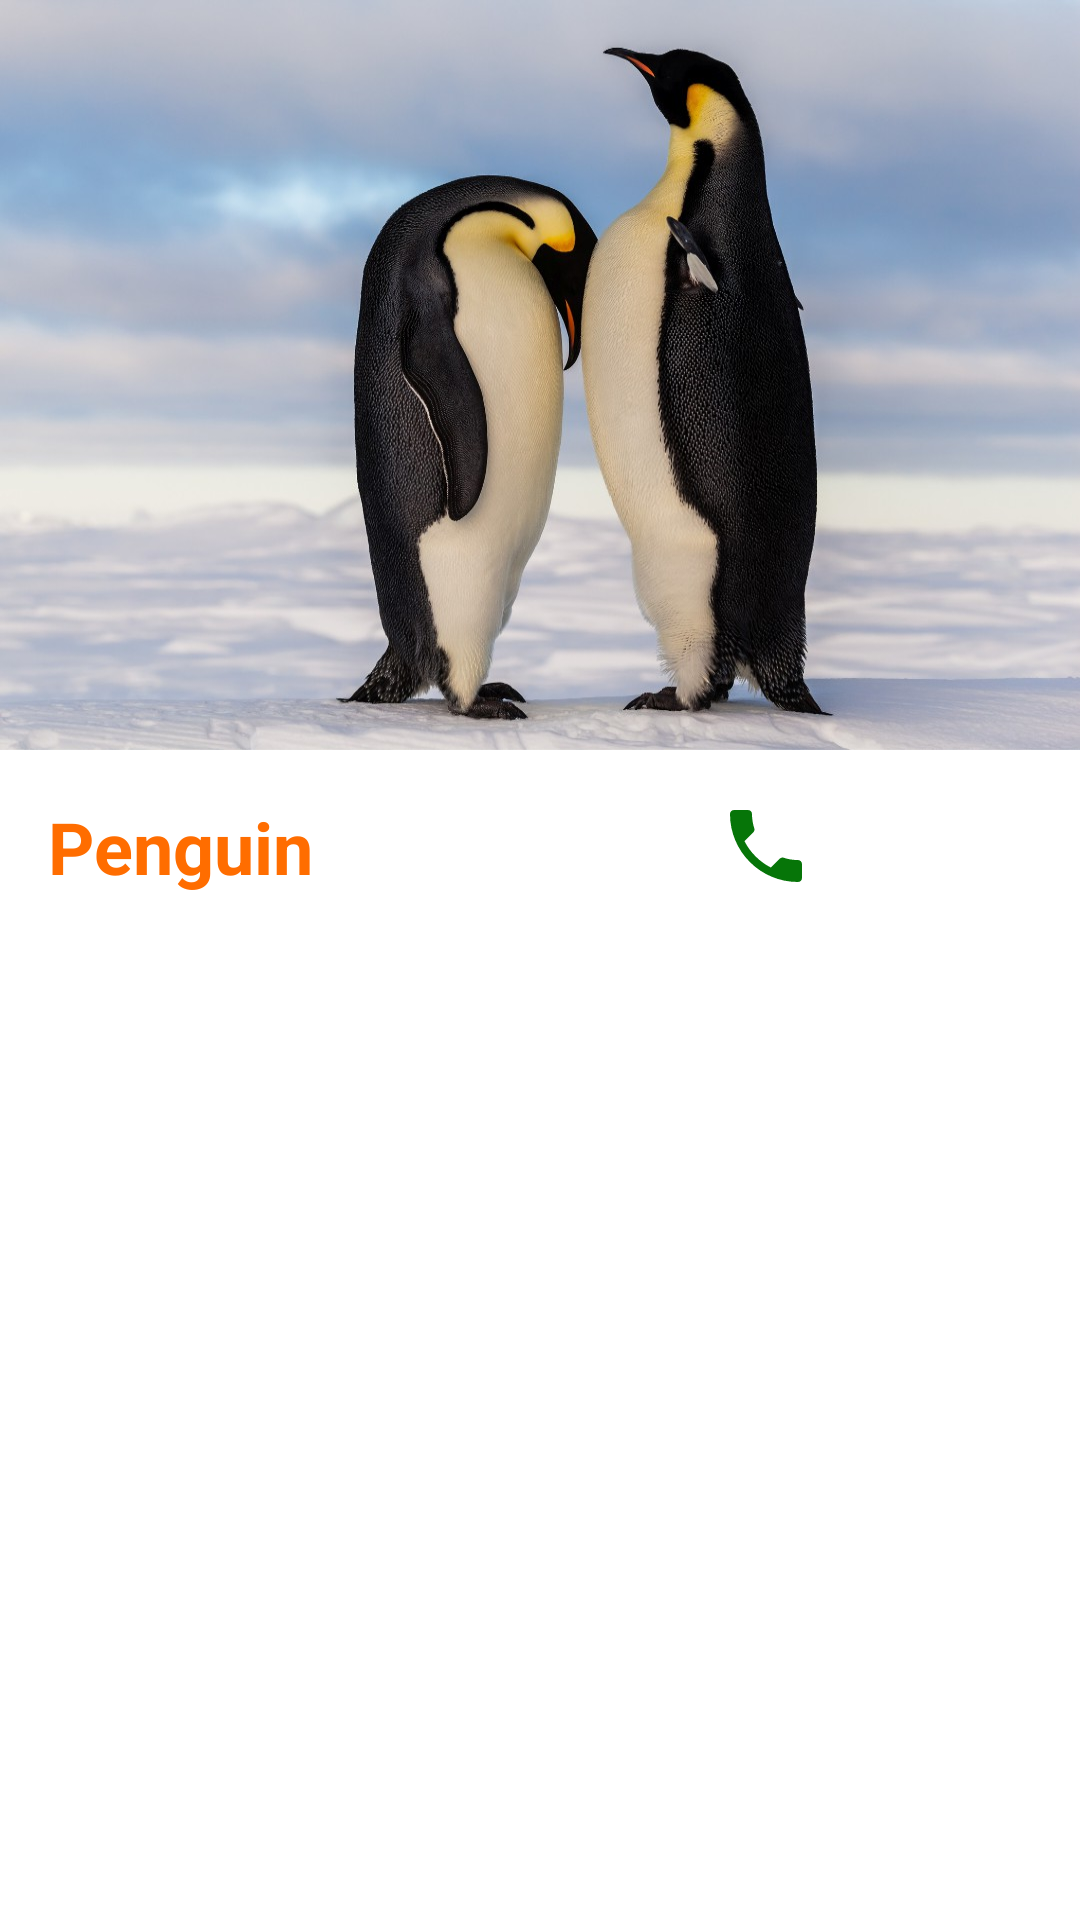

Icon bounding boxes for this 1080 × 1920 phone screenshot, format bbox=(x1, y1, x2, y2):
phone: bbox=(730, 810, 802, 882)
